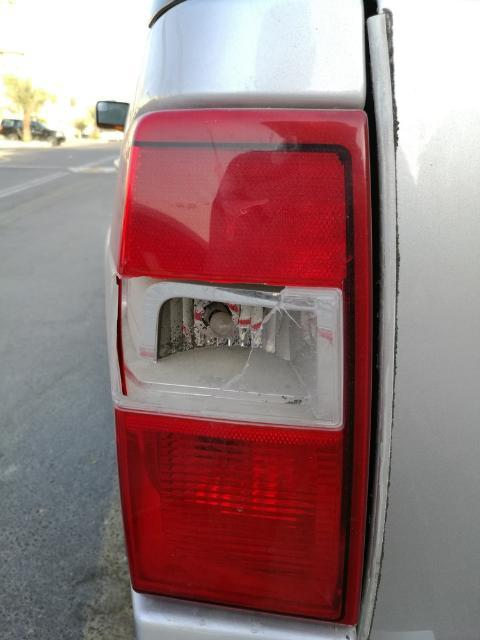lamp broken: (105, 106, 377, 629)
